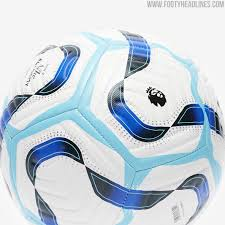football ball: (1, 29, 225, 225)
